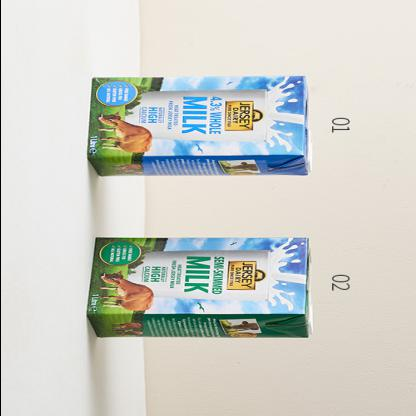tetra: (70, 229, 320, 348), (81, 70, 320, 192)
